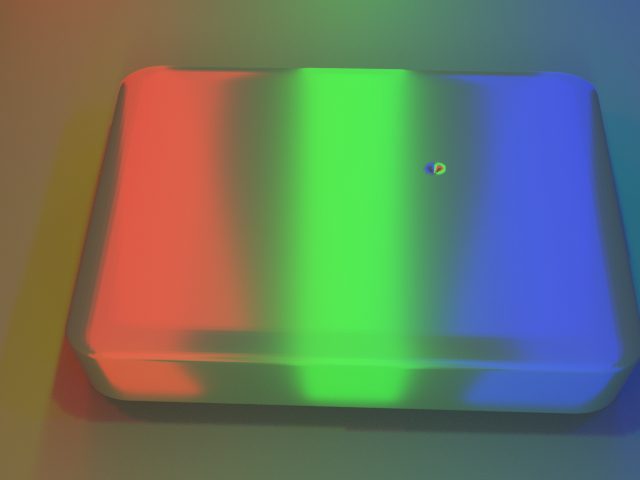dent: (426, 145, 468, 181)
